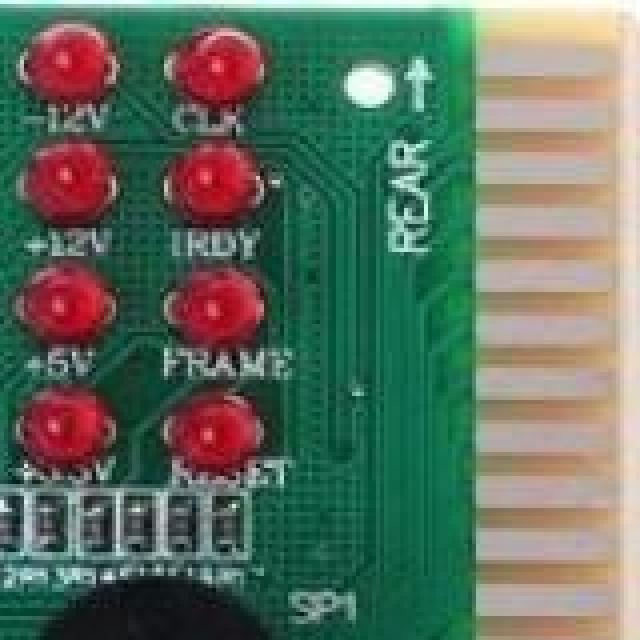LED: (32, 148, 118, 232), (44, 388, 120, 474), (192, 148, 268, 232), (24, 32, 114, 102), (172, 400, 262, 468), (176, 272, 258, 342), (32, 276, 112, 344), (184, 40, 266, 98)
buzzer: (20, 580, 292, 640)
resistor: (172, 504, 200, 548), (216, 512, 242, 556), (44, 504, 64, 558), (88, 508, 106, 554), (128, 504, 146, 548), (0, 496, 12, 556)
